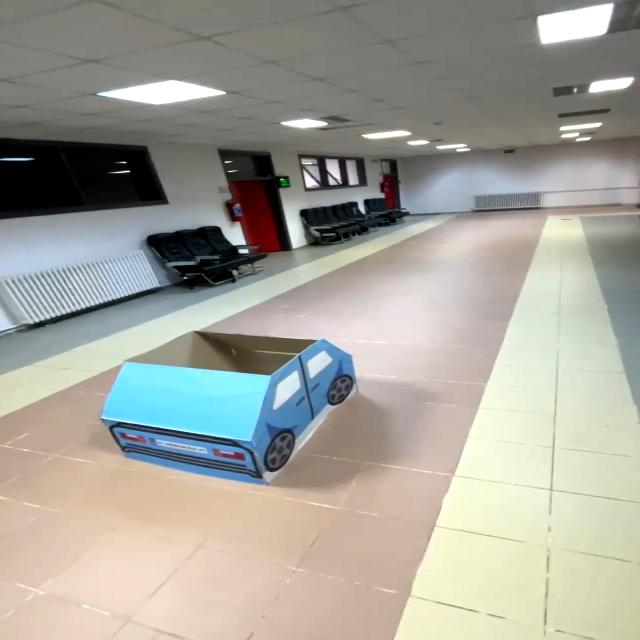blue_car: (80, 314, 385, 502)
